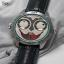watch: (11, 9, 55, 51)
